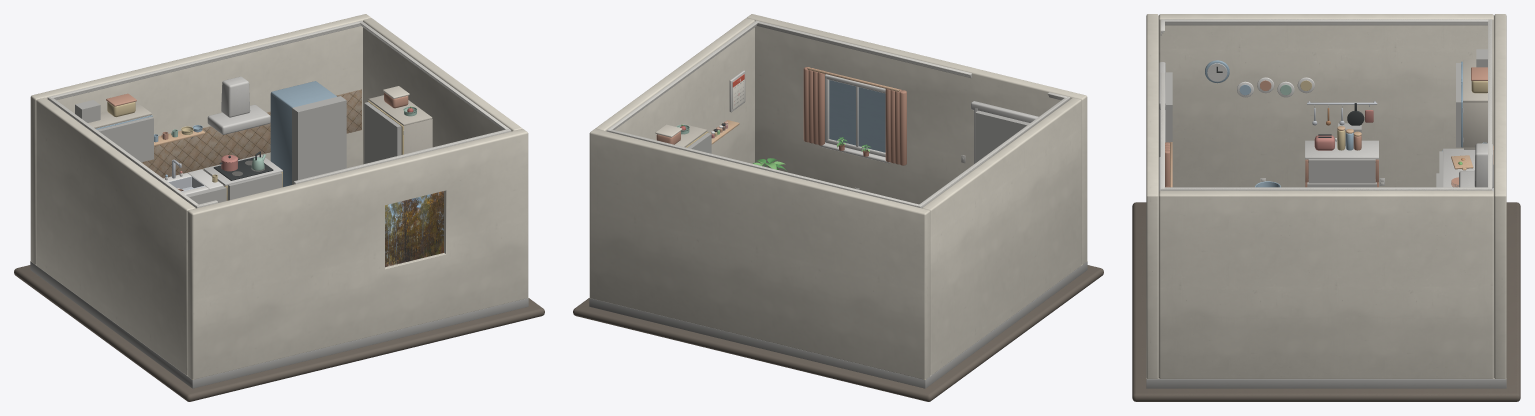
The picture shows the model from 3 angles, left to right: view 1: azimuth 30°, elevation 25°; view 2: azimuth 150°, elevation 25°; view 3: azimuth 270°, elevation 25°; orthographic projection. The views are drawn at different scales.
Visible parts, largest first — view 1: S05_ENV_Wall_S, S05_ENV_Wall_W, S05_ENV_Wall_N, S05_ENV_Plinth, S05_ENV_Wall_E, S05_ENV_Trim_N, S05_ENV_Floor, S05_WALLDECO_Window_View, S05_FUR_Fridge, S05_COL_INT_FridgeFreezerDoor, S05_WALLDECO_RangeHood, S05_COL_INT_FridgeMainDoor (+14 smaller); view 2: S05_ENV_Wall_N, S05_ENV_Wall_W, S05_ENV_Wall_S, S05_ENV_Wall_E, S05_WALLDECO_Window, S05_ENV_Plinth, S05_ENV_Floor, S05_COL_INT_ExitDoor, S05_ENV_Trim_S, S05_ENV_Trim_N, S05_ENV_Trim_E, S05_ENV_Trim_W (+2 smaller); view 3: S05_ENV_Wall_E, S05_ENV_Wall_W, S05_ENV_Plinth, S05_ENV_Wall_N, S05_ENV_Wall_S, S05_ENV_Floor, S05_ENV_Trim_W, S05_COL_INT_WestCounterDrawer, S05_FUR_UpperCabinetA, S05_ENV_Trim_E, S05_FUR_WestCounter, S05_WALLDECO_RangeHood (+10 smaller).
Boxes of the visible parts, <box> form: S05_ENV_Wall_S: <box>187,129,528,379</box>; S05_ENV_Wall_W: <box>36,98,195,375</box>; S05_ENV_Wall_N: <box>30,14,370,264</box>; S05_ENV_Plinth: <box>14,265,544,401</box>; S05_ENV_Wall_E: <box>363,18,522,164</box>; S05_ENV_Trim_N: <box>47,21,362,178</box>; S05_ENV_Floor: <box>30,261,528,388</box>; S05_WALLDECO_Window_View: <box>385,191,443,267</box>; S05_FUR_Fridge: <box>270,81,336,186</box>; S05_COL_INT_FridgeFreezerDoor: <box>292,96,346,152</box>; S05_WALLDECO_RangeHood: <box>207,76,270,134</box>; S05_COL_INT_FridgeMainDoor: <box>292,140,346,184</box>; S05_ENV_Wall_N: <box>589,129,930,379</box>; S05_ENV_Wall_W: <box>922,98,1081,375</box>; S05_ENV_Wall_S: <box>747,14,1087,264</box>; S05_ENV_Wall_E: <box>595,18,754,163</box>; S05_WALLDECO_Window: <box>803,67,906,165</box>; S05_ENV_Plinth: <box>573,265,1103,401</box>; S05_ENV_Floor: <box>589,261,1087,388</box>; S05_COL_INT_ExitDoor: <box>975,110,1029,162</box>; S05_ENV_Trim_S: <box>755,21,1069,189</box>; S05_ENV_Trim_N: <box>606,129,922,208</box>; S05_ENV_Trim_E: <box>606,20,758,131</box>; S05_ENV_Trim_W: <box>917,97,1070,207</box>; S05_ENV_Wall_E: <box>1159,190,1493,378</box>; S05_ENV_Wall_W: <box>1159,14,1493,187</box>; S05_ENV_Plinth: <box>1132,202,1520,401</box>; S05_ENV_Wall_N: <box>1494,14,1506,378</box>; S05_ENV_Wall_S: <box>1146,14,1158,378</box>; S05_ENV_Floor: <box>1146,378,1506,388</box>; S05_ENV_Trim_W: <box>1162,19,1488,185</box>; S05_COL_INT_WestCounterDrawer: <box>1308,159,1375,183</box>; S05_FUR_UpperCabinetA: <box>1463,59,1487,149</box>; S05_ENV_Trim_E: <box>1160,187,1492,190</box>; S05_FUR_WestCounter: <box>1305,140,1378,186</box>; S05_WALLDECO_RangeHood: <box>1459,143,1493,191</box>.
Bounding box in the file's own units: 5.88 × 2.86 × 4.98.
75 materials, 26 textured.
